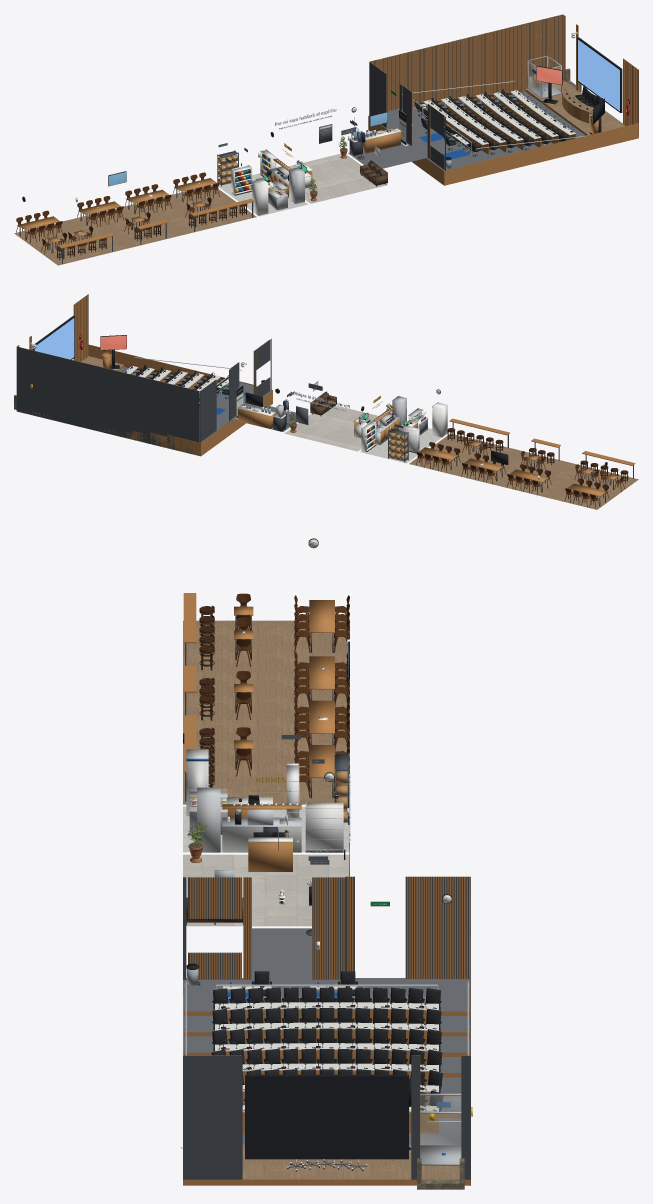
The model's file is 10_n1_publico.glb.
3 views of the same model, one above another, from view 1: azimuth 30°, elevation 25°; view 2: azimuth 150°, elevation 25°; view 3: azimuth 270°, elevation 25° (orthographic). The views are drawn at different scales.
Visible parts, largest first — view 1: lambrín de listones, piso · Sala de café, piso escalonado del auditorio, mesas corridas del auditorio, piso · Lobby, recepción y vigilancia, pantalla LED de 5 m, piso · Antesala de la sala de usos múltiples, preparacion_cafe, barra alta junto al vidrio, mostrador_coffee, plataforma_elevadora, anaquel_snacks (+8 smaller); view 2: lambrín de listones, piso · Sala de café, piso escalonado del auditorio, piso · Lobby, recepción y vigilancia, pantalla LED de 5 m, preparacion_cafe, anaquel_snacks (×2), barra alta junto al vidrio, mostrador_coffee, mesas corridas del auditorio, piso · Tienda y cafetería, anaquel_rotulado (+3 smaller); view 3: lambrín de listones, piso · Sala de café, piso escalonado del auditorio, pantalla LED de 5 m, mesas corridas del auditorio, piso · Lobby, recepción y vigilancia, preparacion_cafe, plataforma_elevadora, piso · Antesala de la sala de usos múltiples, mesa_comunal_240 (×3), anaquel_snacks, barra alta junto al vidrio (+5 smaller).
Part boxes in pixels (<box>): lambrín de listones: <box>369,14,638,180</box>; piso · Sala de café: <box>14,185,256,265</box>; piso escalonado del auditorio: <box>368,80,625,185</box>; mesas corridas del auditorio: <box>423,90,575,154</box>; piso · Lobby, recepción y vigilancia: <box>288,153,387,203</box>; pantalla LED de 5 m: <box>577,37,622,112</box>; piso · Antesala de la sala de usos múltiples: <box>348,143,426,168</box>; preparacion_cafe: <box>268,158,304,203</box>; barra alta junto al vidrio: <box>58,198,254,263</box>; mostrador_coffee: <box>363,127,401,153</box>; plataforma_elevadora: <box>527,55,561,98</box>; anaquel_snacks: <box>231,165,252,195</box>; lambrín de listones: <box>16,294,271,454</box>; piso · Sala de café: <box>409,433,638,509</box>; piso escalonado del auditorio: <box>17,356,272,456</box>; piso · Lobby, recepción y vigilancia: <box>284,405,379,451</box>; pantalla LED de 5 m: <box>32,315,74,359</box>; preparacion_cafe: <box>372,396,406,444</box>; anaquel_snacks (×2): <box>361,421,419,453</box>; barra alta junto al vidrio: <box>449,418,635,478</box>; mostrador_coffee: <box>237,404,275,428</box>; mesas corridas del auditorio: <box>124,366,220,396</box>; piso · Tienda y cafetería: <box>360,428,441,463</box>; anaquel_rotulado: <box>388,428,408,462</box>; lambrín de listones: <box>183,876,470,1185</box>; piso · Sala de café: <box>183,620,349,804</box>; piso escalonado del auditorio: <box>183,978,470,1185</box>; pantalla LED de 5 m: <box>245,1074,408,1159</box>; mesas corridas del auditorio: <box>215,1002,438,1133</box>; piso · Lobby, recepción y vigilancia: <box>183,854,349,926</box>; preparacion_cafe: <box>197,787,301,852</box>; plataforma_elevadora: <box>420,1093,472,1165</box>; piso · Antesala de la sala de usos múltiples: <box>252,928,311,978</box>; mesa_comunal_240 (×3): <box>309,600,334,744</box>; anaquel_snacks: <box>305,801,343,852</box>; barra alta junto al vidrio: <box>183,593,196,801</box>.
Size of the model in its own units: 40.3 by 4.5 by 9.2.
Materials: 68 (13 with a texture image).
